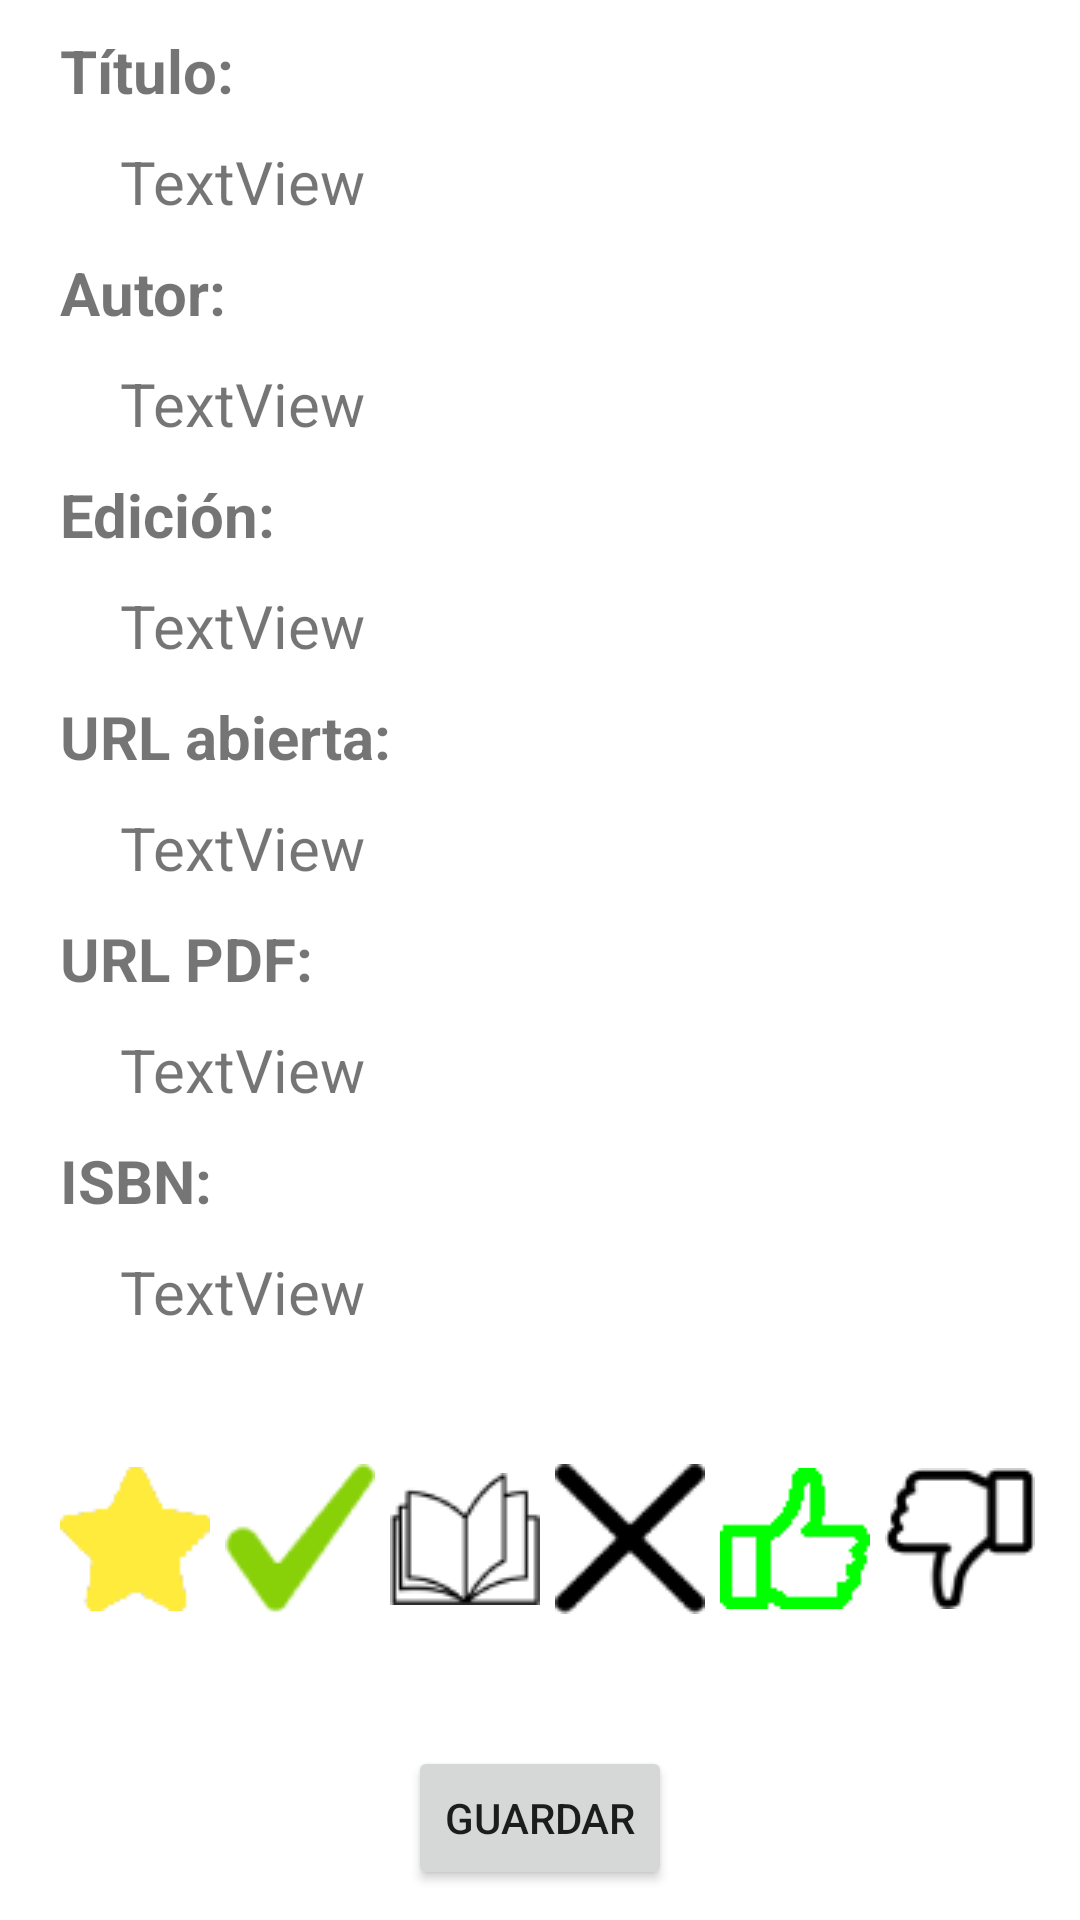

Screen size 1080 × 1920. Icon name, then its center in pixels as (x=x, y=y):
check: (x=300, y=1538)
cruz: (x=630, y=1539)
estrella: (x=135, y=1539)
libro: (x=465, y=1539)
like: (x=795, y=1538)
notlike: (x=960, y=1538)
